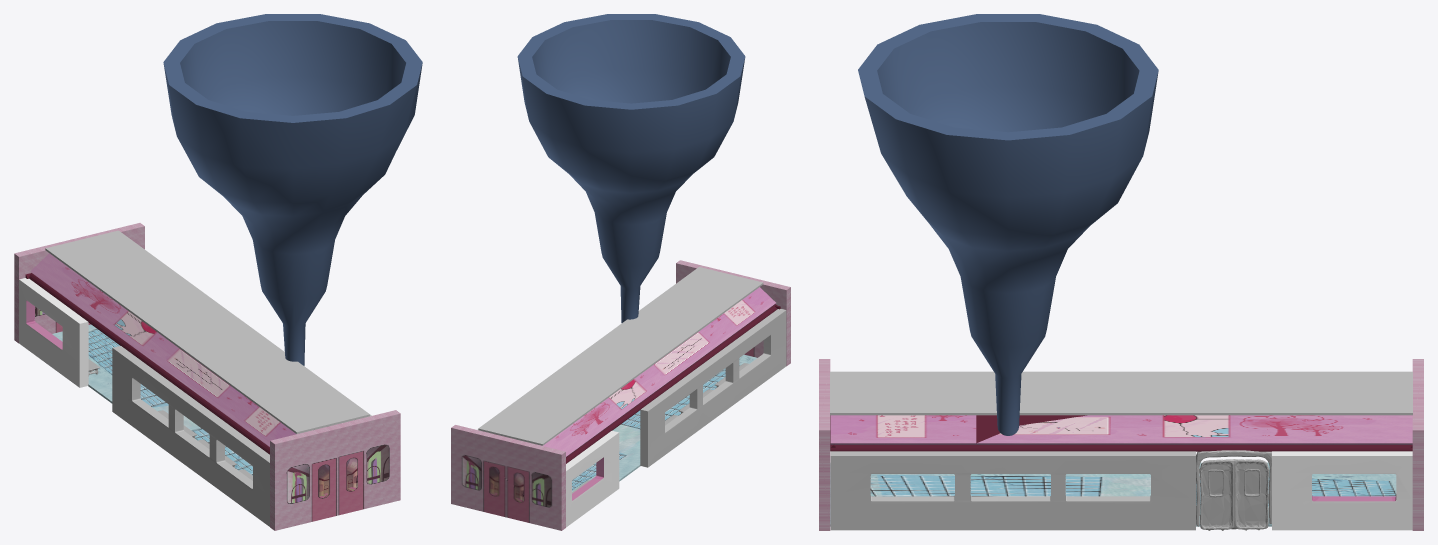
The model's file is room.fbx.
3 views of the same model, side by side, from view 1: azimuth 30°, elevation 25°; view 2: azimuth 150°, elevation 25°; view 3: azimuth 270°, elevation 25° (orthographic). The views are drawn at different scales.
Parts seen in each view (by area): view 1: pPipe2, pPlane7, end1, wall, pCube7, pPlane5, pPlane3, pCube15, pCylinder1; view 2: pPipe2, pPlane7, pCube15, wall, pCube7, pPlane5, pPlane3, pCylinder1, end1; view 3: pPipe2, pPlane7, wall_2, wall2_pCube7, pPlane5, pPlane3, pCylinder1, door1, door2, end1, pCube15, arch.
Boxes of the visible parts, left/top/right/bottom form: pPipe2: left=163, top=14, right=422, bottom=365; pPlane7: left=45, top=230, right=369, bottom=433; end1: left=270, top=410, right=400, bottom=530; wall: left=112, top=346, right=269, bottom=526; pCube7: left=30, top=253, right=296, bottom=446; pPlane5: left=19, top=278, right=88, bottom=387; pPlane3: left=52, top=324, right=252, bottom=475; pCube15: left=14, top=223, right=144, bottom=343; pCylinder1: left=29, top=273, right=269, bottom=454; pPipe2: left=517, top=14, right=745, bottom=322; pPlane7: left=478, top=267, right=763, bottom=445; pCube15: left=451, top=425, right=565, bottom=530; wall: left=640, top=309, right=786, bottom=467; pCube7: left=539, top=287, right=775, bottom=457; pPlane5: left=566, top=430, right=619, bottom=527; pPlane3: left=572, top=354, right=756, bottom=491; pCylinder1: left=566, top=304, right=777, bottom=463; end1: left=676, top=260, right=790, bottom=366; pPipe2: left=858, top=14, right=1158, bottom=435; pPlane7: left=830, top=371, right=1412, bottom=415; wall_2: left=830, top=451, right=1195, bottom=530; wall2_pCube7: left=830, top=415, right=1412, bottom=444; pPlane5: left=1272, top=451, right=1412, bottom=530; pPlane3: left=830, top=462, right=1396, bottom=526; pCylinder1: left=830, top=445, right=1412, bottom=451; door1: left=1199, top=459, right=1234, bottom=530; door2: left=1234, top=459, right=1268, bottom=530; end1: left=819, top=359, right=830, bottom=530; pCube15: left=1412, top=359, right=1423, bottom=530; arch: left=1196, top=450, right=1271, bottom=526.
Size of the model in its own units: 189 by 309 by 383.
